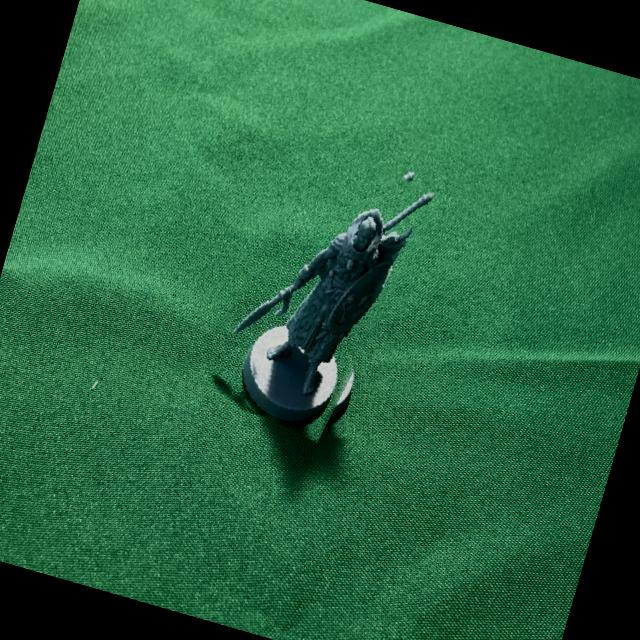isis_follower: (200, 128, 436, 448)
